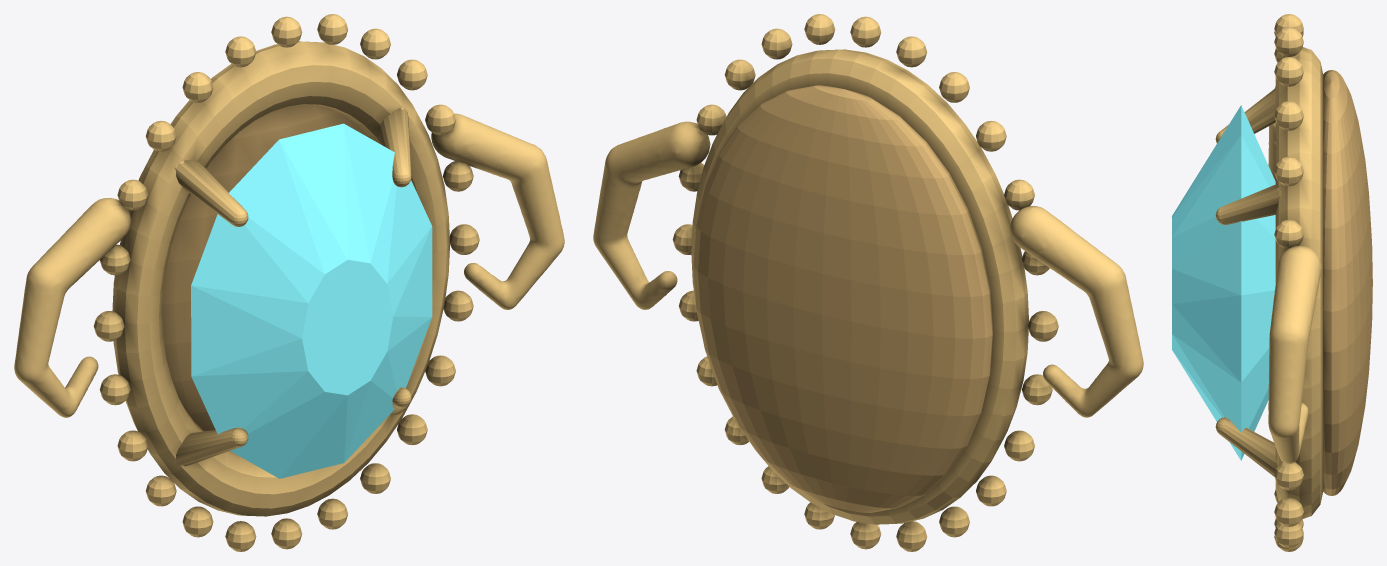
Rendered from emb_gema_azul.glb.
3 renders of one model, left to right at view 1: azimuth 30°, elevation 25°; view 2: azimuth 150°, elevation 25°; view 3: azimuth 270°, elevation 25°, orthographic. The views are drawn at different scales.
Parts seen in each view (by area): view 1: emb_gema_azul; view 2: emb_gema_azul; view 3: emb_gema_azul.
Part boxes in pixels (left/top/right/bottom): emb_gema_azul: left=14, top=14, right=564, bottom=551; emb_gema_azul: left=593, top=14, right=1143, bottom=551; emb_gema_azul: left=1172, top=14, right=1372, bottom=551.
Bounding box in the file's own units: 0.1137 × 0.1055 × 0.0378.
